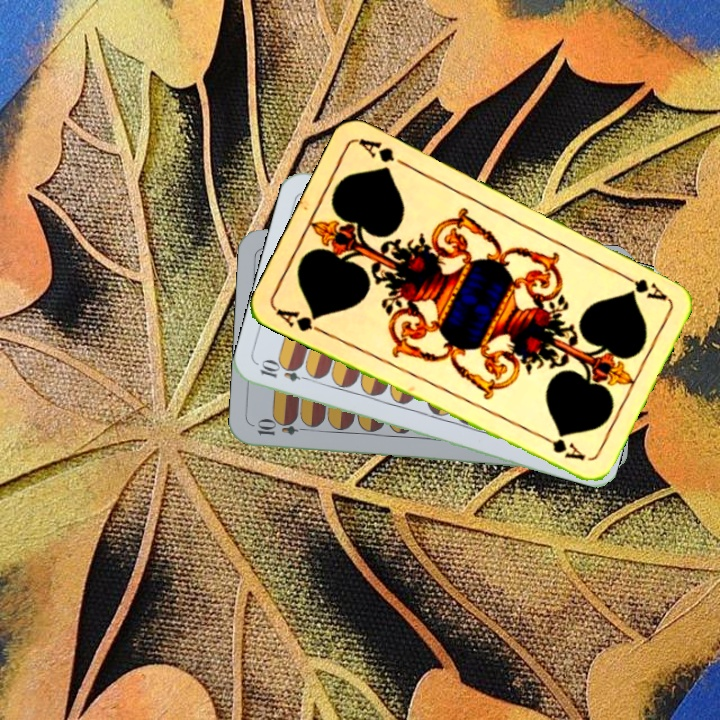E10: (256, 358, 315, 385), (253, 419, 312, 438)
GA: (615, 268, 670, 304), (271, 304, 328, 337)
